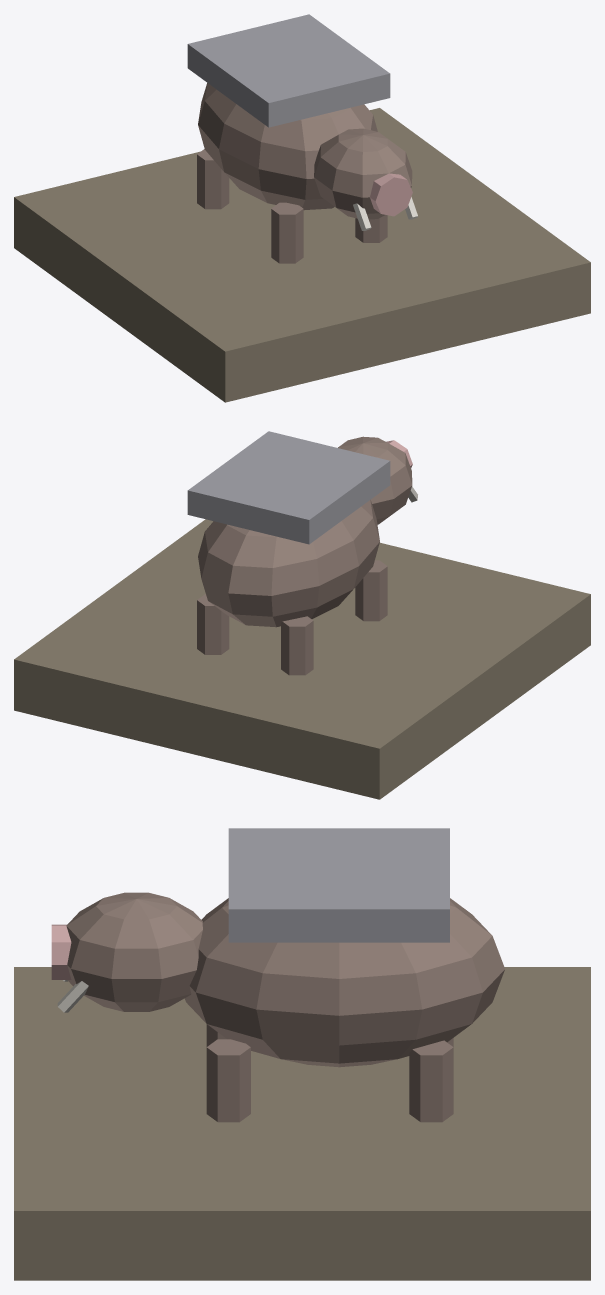
The model's file is orc_warboar.glb.
The picture shows the model from 3 angles, top to bottom: view 1: azimuth 30°, elevation 25°; view 2: azimuth 150°, elevation 25°; view 3: azimuth 270°, elevation 25°; orthographic projection. The views are drawn at different scales.
Parts seen in each view (by area): view 1: Base, TurretMesh, HeadMesh; view 2: Base, TurretMesh, HeadMesh; view 3: Base, TurretMesh, HeadMesh.
Part boxes in pixels (left/top/right/bottom): Base: left=14, top=108, right=590, bottom=402; TurretMesh: left=187, top=14, right=390, bottom=263; HeadMesh: left=314, top=128, right=417, bottom=230; Base: left=14, top=519, right=590, bottom=799; TurretMesh: left=187, top=431, right=390, bottom=675; HeadMesh: left=338, top=436, right=417, bottom=524; Base: left=14, top=967, right=590, bottom=1280; TurretMesh: left=184, top=828, right=504, bottom=1122; HeadMesh: left=51, top=892, right=202, bottom=1012.
Bounding box in the file's own units: 1.8 × 0.9975 × 1.8.
